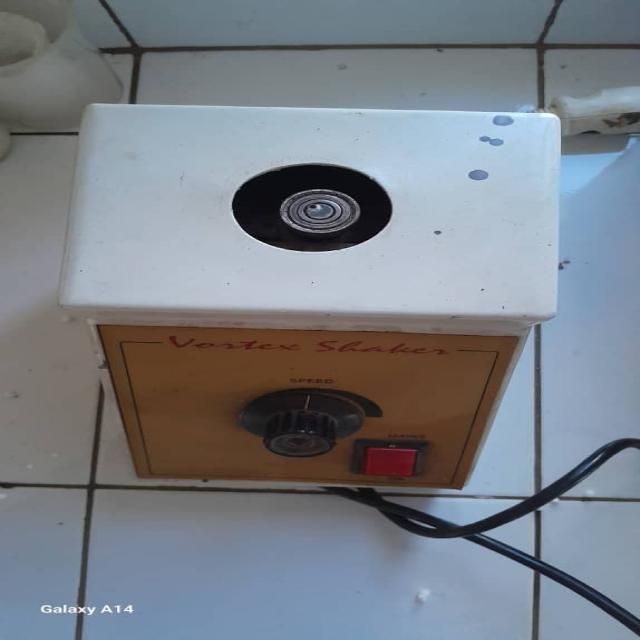Vortex: (75, 98, 556, 494)
